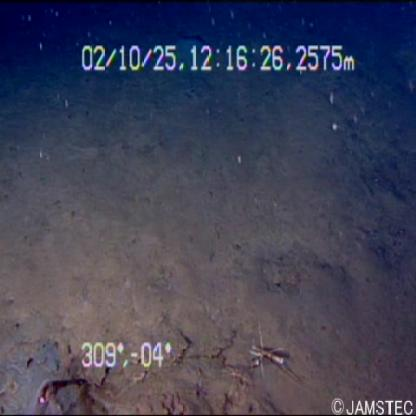Rác: (34, 367, 100, 416)
